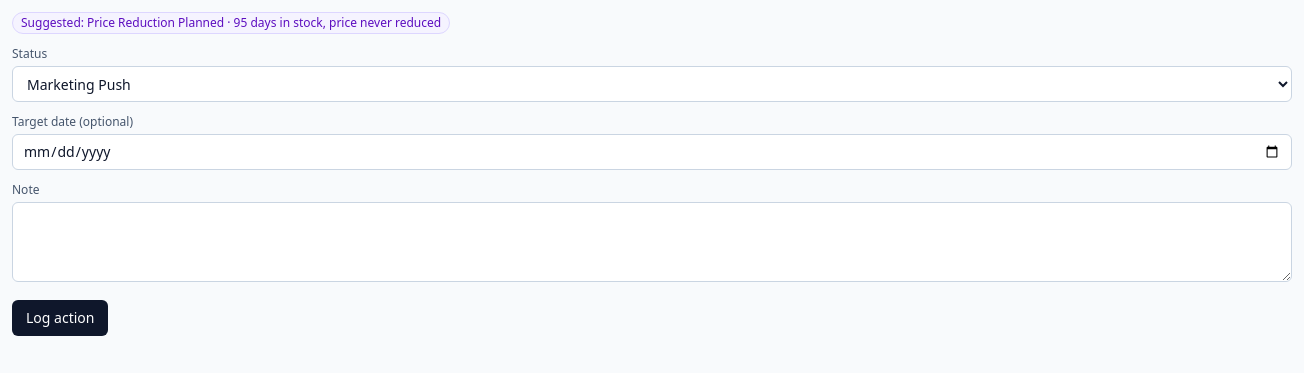
ActionForm › shows server field errors next to the field
Click the button "Log action". click: (60, 318)
box: [12,300,108,336]
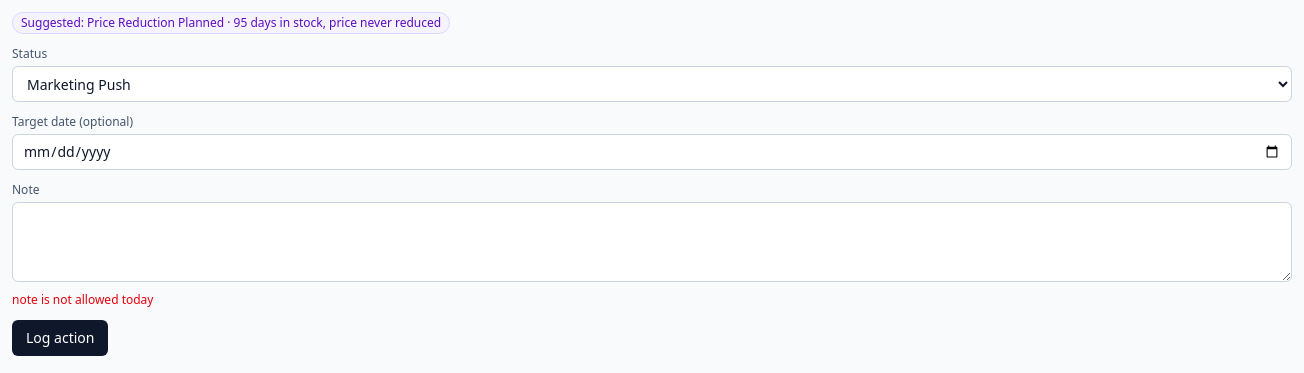
Now the text "note is not allowed today" is shown, box [12,291,154,308]
